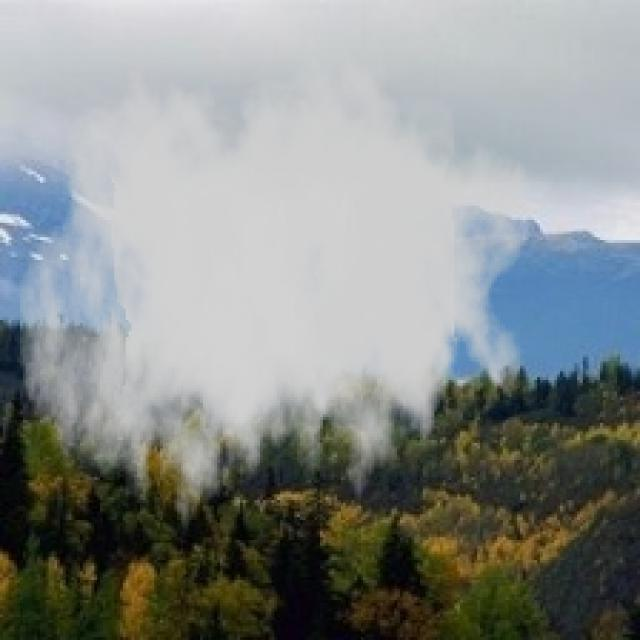smoke: (17, 26, 537, 554)
